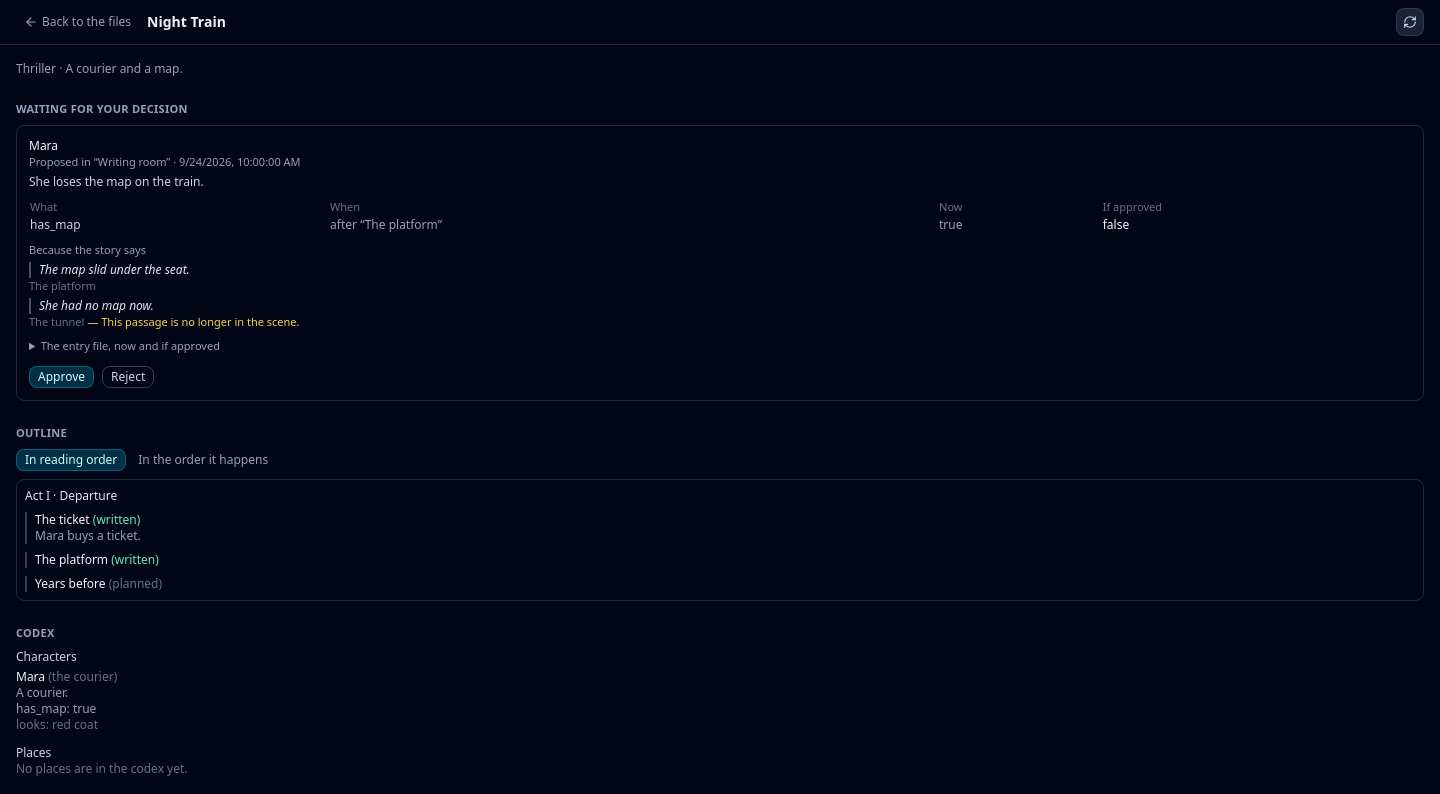
Test: StoryView, a story in Files (#1560) › shows the Core's refusal in its own words
Step 1. Click the button with test id "story-approve" → (62, 377), box [29,366,94,388]
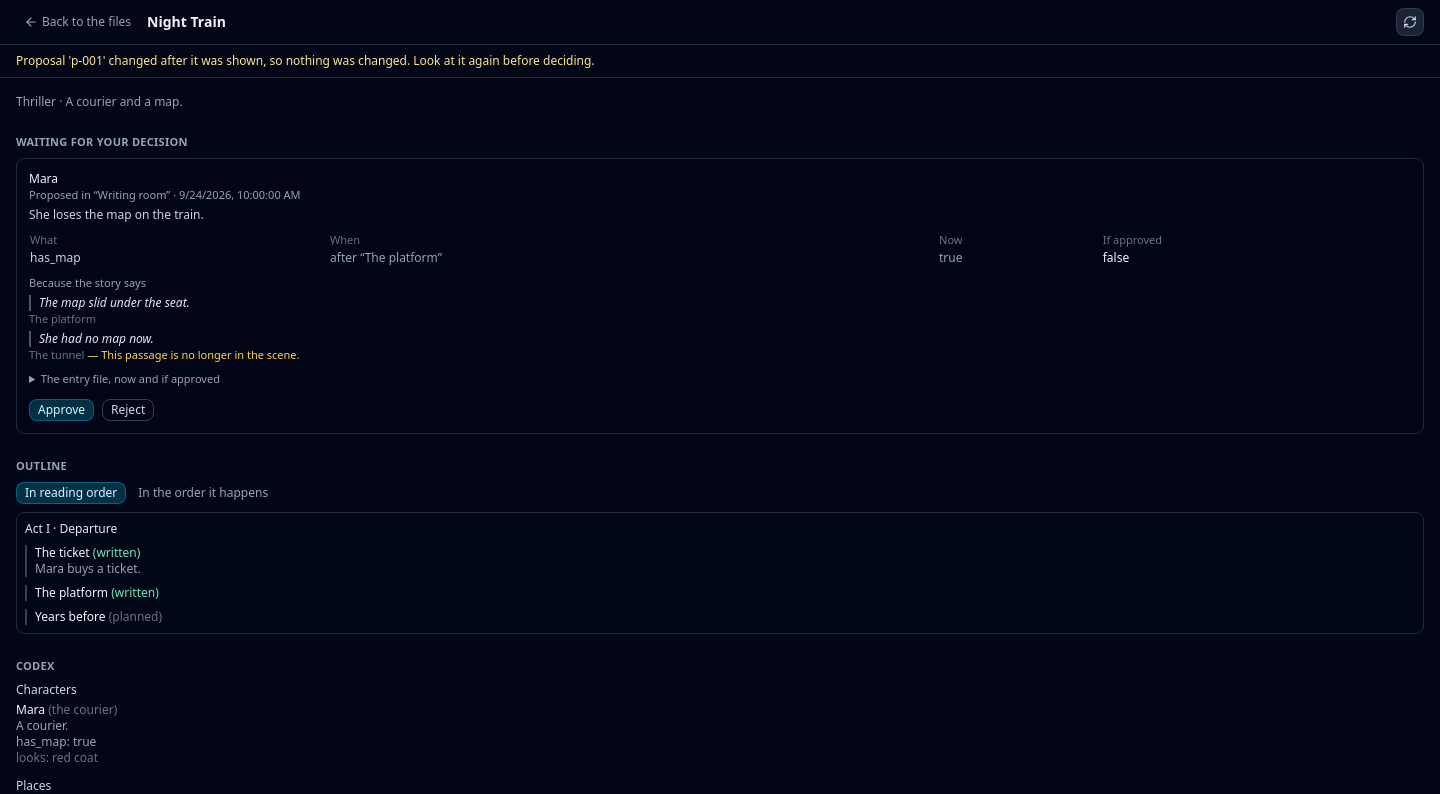
expect the message with test id "story-view-notice" shows "Proposal 'p-001' changed after it was shown, so nothing was changed. Look at it again before deciding.": met, box [16,52,594,69]
